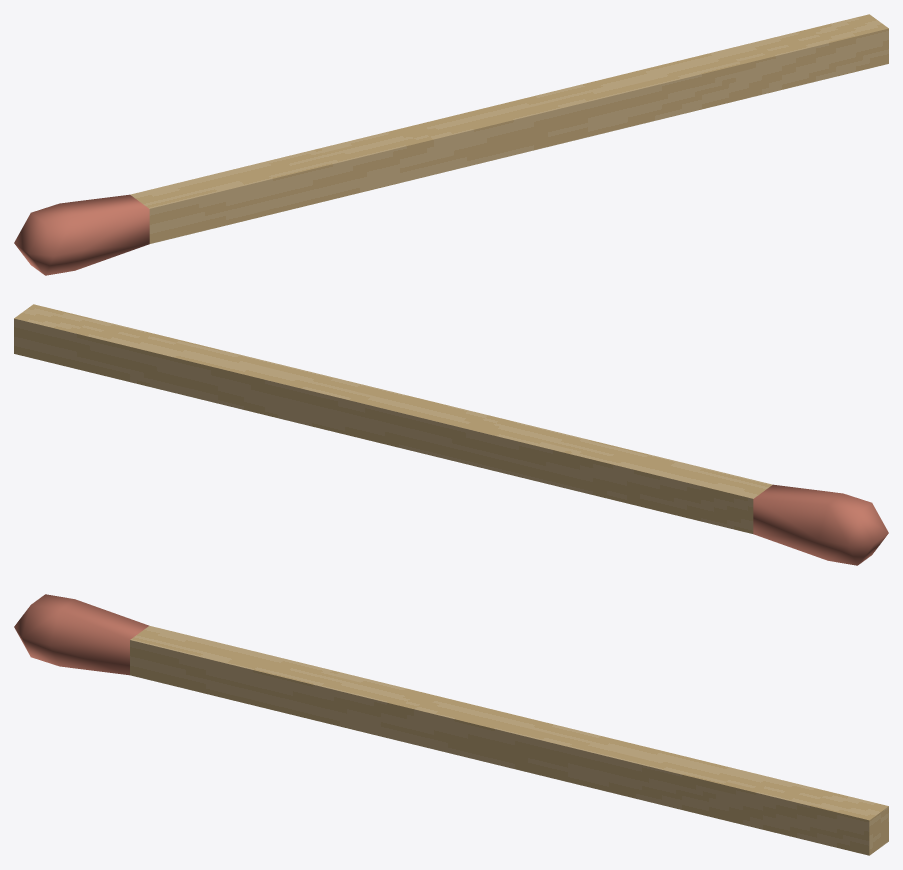
File: 048c_Match.glb
3 views of the same model, one above another, from view 1: azimuth 30°, elevation 25°; view 2: azimuth 150°, elevation 25°; view 3: azimuth 330°, elevation 25° (orthographic).
Parts seen in each view (by area): view 1: part_0; view 2: part_0; view 3: part_0.
Part boxes in pixels (x1,y1,x2,y2): part_0: [14, 14, 888, 275]; part_0: [14, 304, 888, 565]; part_0: [14, 594, 888, 855].
Size of the model in its own units: 0.0416 by 0.00259 by 0.00288.
Materials: 1 (1 with a texture image).
